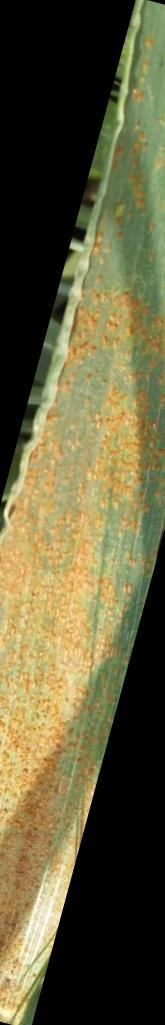Wheat: (71, 138, 165, 708), (0, 456, 65, 929)
